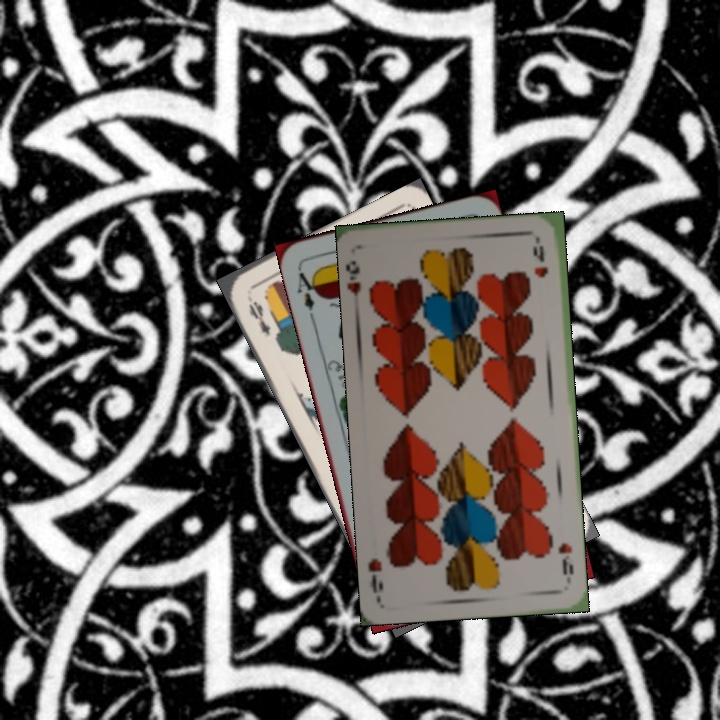EA: (293, 264, 322, 323)
EO: (244, 296, 274, 338)
H9: (554, 539, 576, 577), (345, 257, 363, 298)
